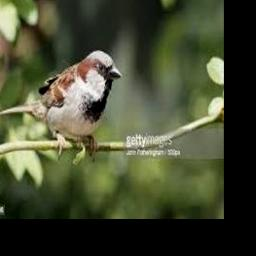Sparrow: (0, 50, 121, 161)
